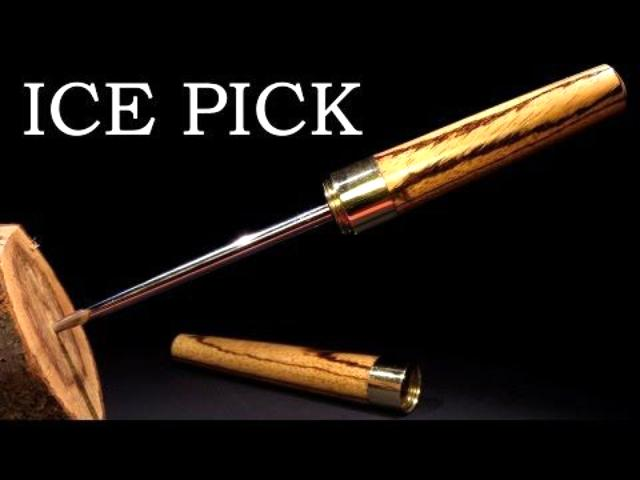ice pick: (55, 62, 628, 332)
